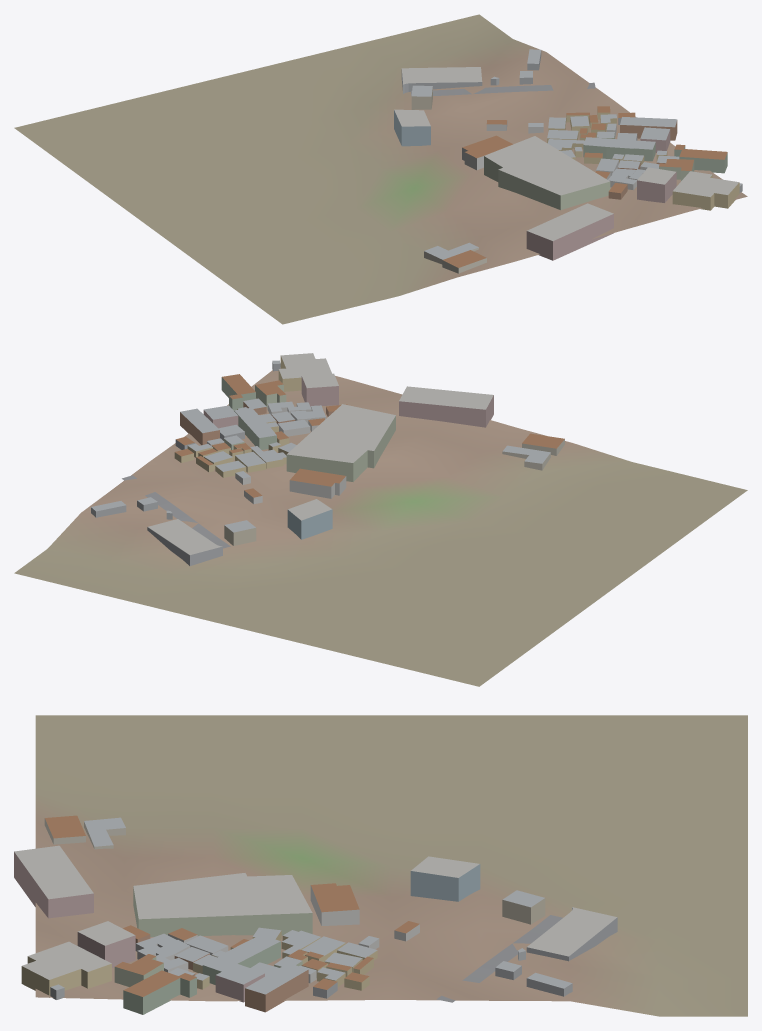
3 views of the same model, one above another, from view 1: azimuth 30°, elevation 25°; view 2: azimuth 150°, elevation 25°; view 3: azimuth 270°, elevation 25° (orthographic). The views are drawn at different scales.
Visible parts, largest first — view 1: Lo; view 2: Lo; view 3: Lo.
Boxes of the visible parts, x1,y1,x2,y2 form: Lo: (14,14,747,324); Lo: (14,353,747,686); Lo: (14,715,747,1016).
Size of the model in its own units: 267 by 16.63 by 264.
